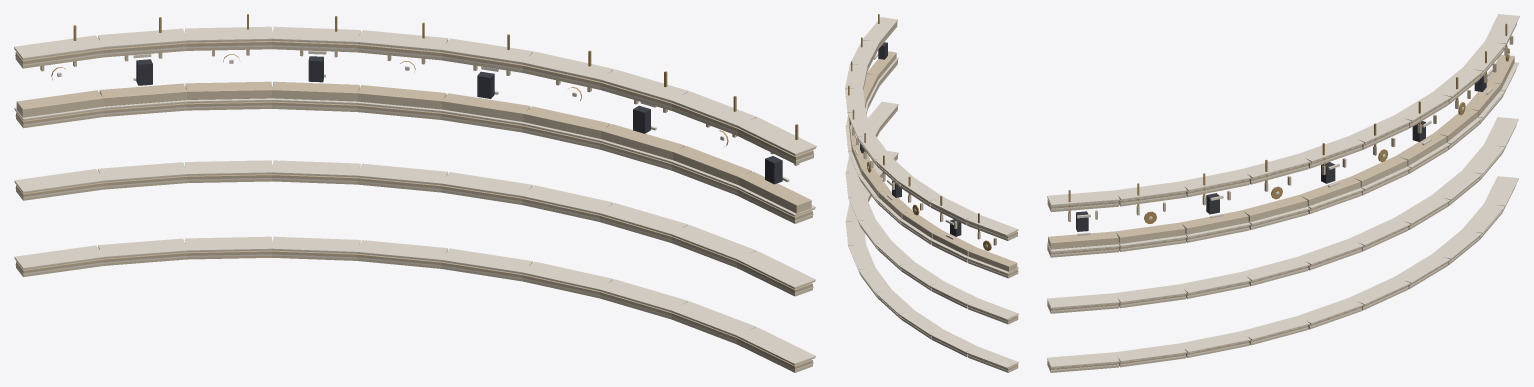
Rendered from COL_AtticCornice_Q4.glb.
3 views of the same model, side by side, from view 1: azimuth 30°, elevation 25°; view 2: azimuth 150°, elevation 25°; view 3: azimuth 270°, elevation 25° (orthographic). The views are drawn at different scales.
Parts seen in each view (by area): view 1: COL_AtticCornice_Q4; view 2: COL_AtticCornice_Q4; view 3: COL_AtticCornice_Q4.
Boxes of the visible parts, x1,y1,x2,y2 form: COL_AtticCornice_Q4: (14, 14, 816, 372); COL_AtticCornice_Q4: (845, 14, 1018, 372); COL_AtticCornice_Q4: (1047, 14, 1519, 372).
Bounding box in the file's own units: 111 × 49 × 116.
